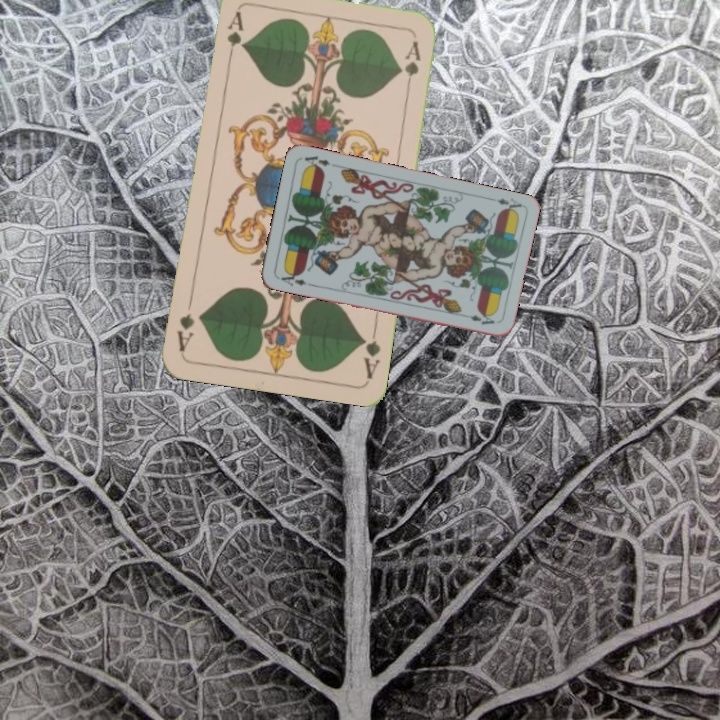EA: (484, 194, 525, 215), (277, 267, 314, 289)
GA: (357, 322, 383, 381), (222, 8, 245, 67)
